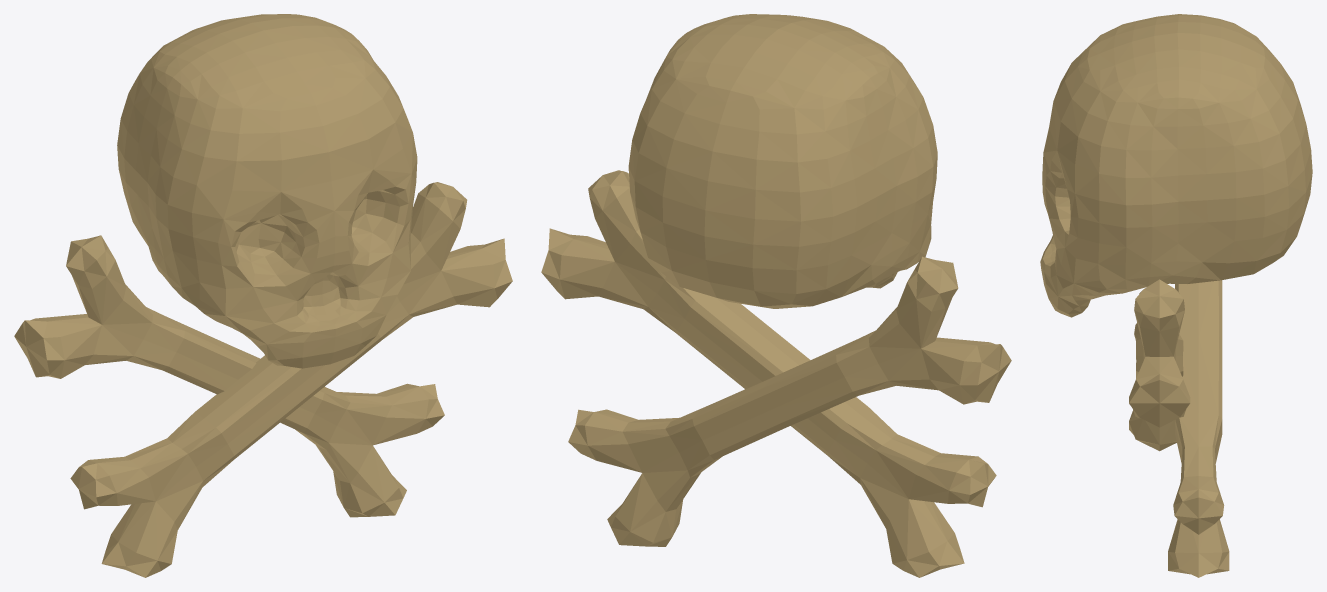
Rendered from skull2.glb.
The picture shows the model from 3 angles, left to right: view 1: azimuth 30°, elevation 25°; view 2: azimuth 150°, elevation 25°; view 3: azimuth 270°, elevation 25°; orthographic projection. The views are drawn at different scales.
Parts seen in each view (by area): view 1: Skull2; view 2: Skull2; view 3: Skull2.
Boxes of the visible parts, x1,y1,x2,y2 form: Skull2: [14, 14, 512, 577]; Skull2: [541, 14, 1011, 577]; Skull2: [1040, 14, 1312, 577].
Size of the model in its own units: 85.81 by 92.74 by 47.08.
